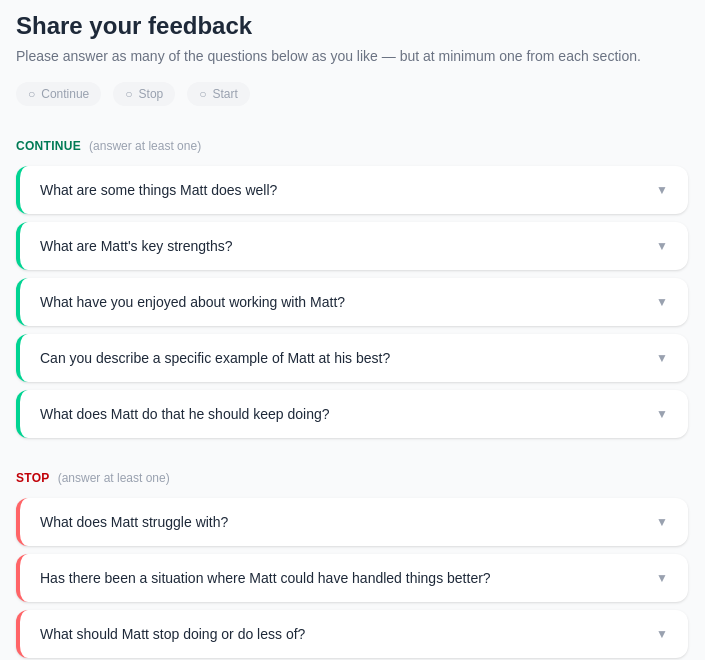
Test: Feedback form › expands a question when clicked
Step 1. Click the text "What are some things Matt does well?" → point(159, 190), box [40,180,277,200]
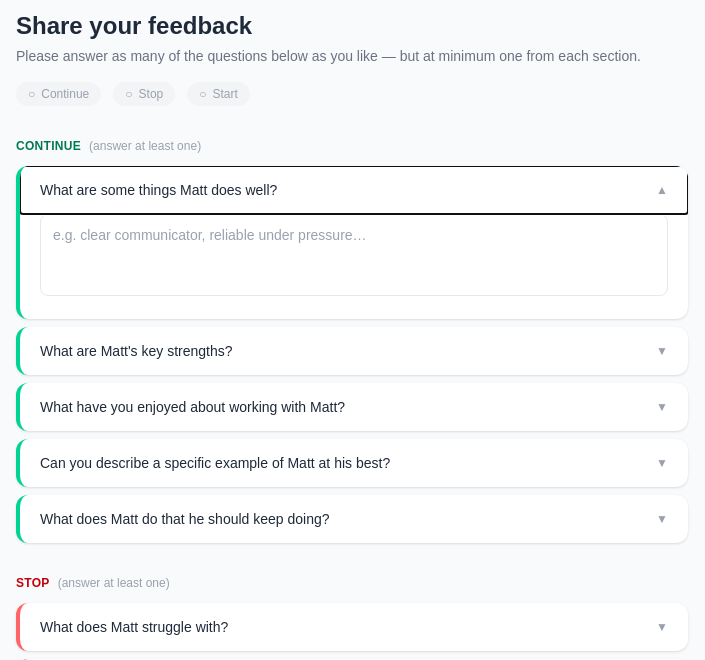
Now the text box with placeholder "e.g. clear communicator, reliable under pressure…" is shown, box [40,214,668,296]
